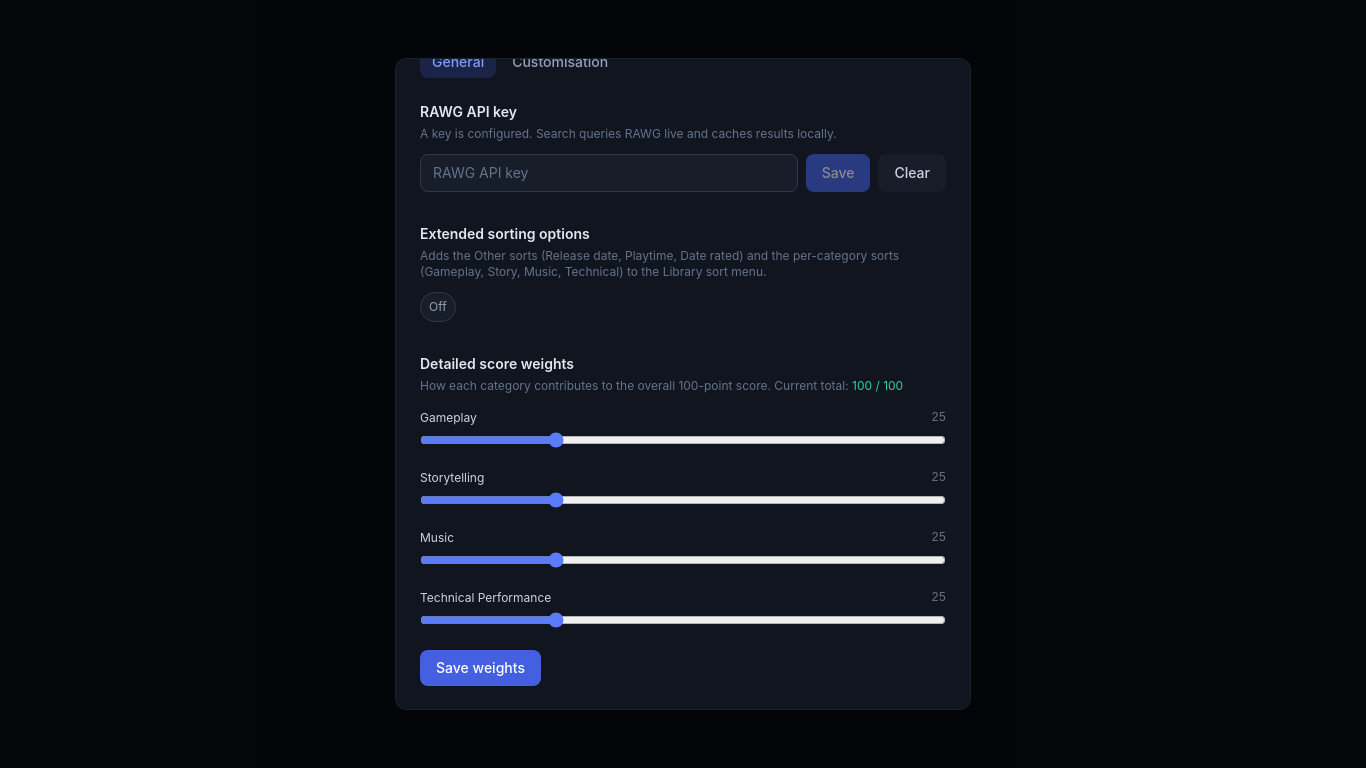
Test: General tab — weights › reports weight-save failures in the message line
(page scrolled)
Click the button "Save weights" at [480, 668], box x1=420 y1=650 x2=541 y2=686
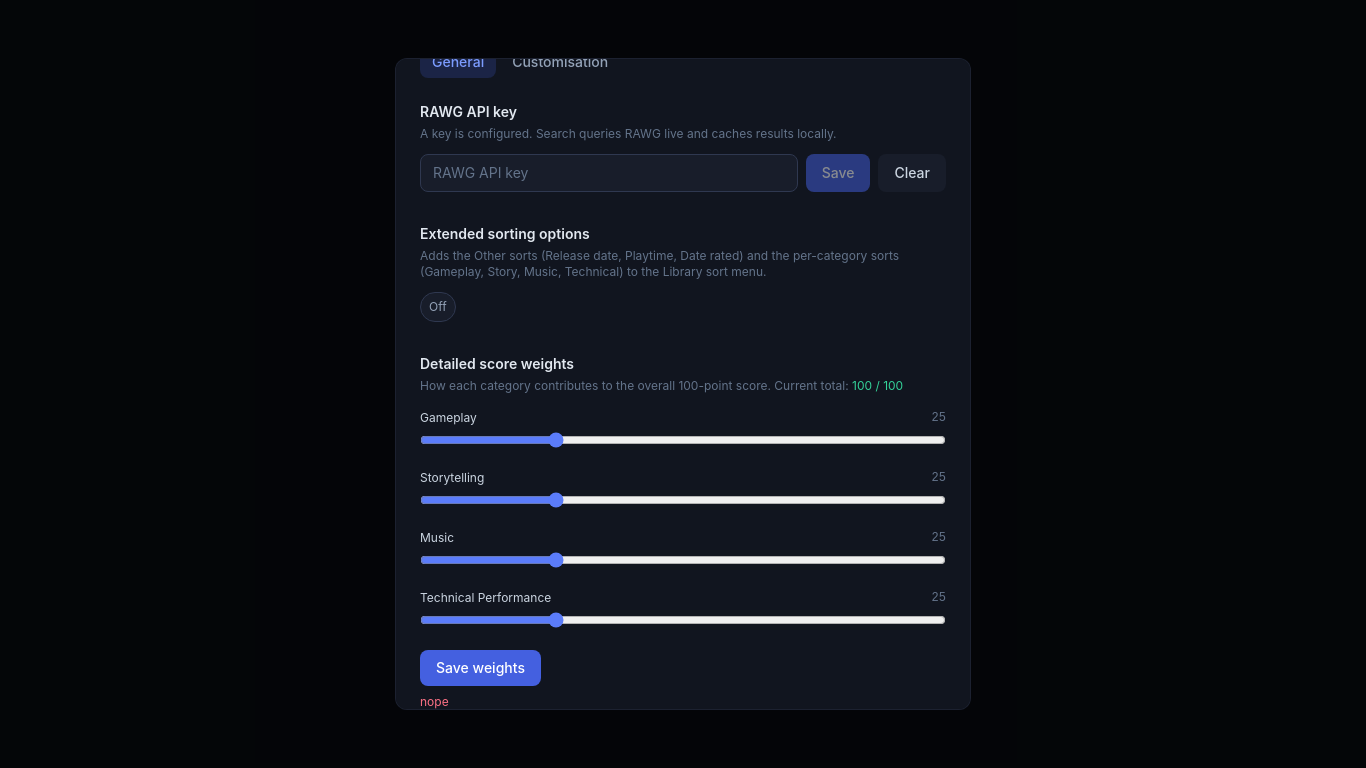
Check: the text "nope" is shown, box x1=420 y1=694 x2=449 y2=709
